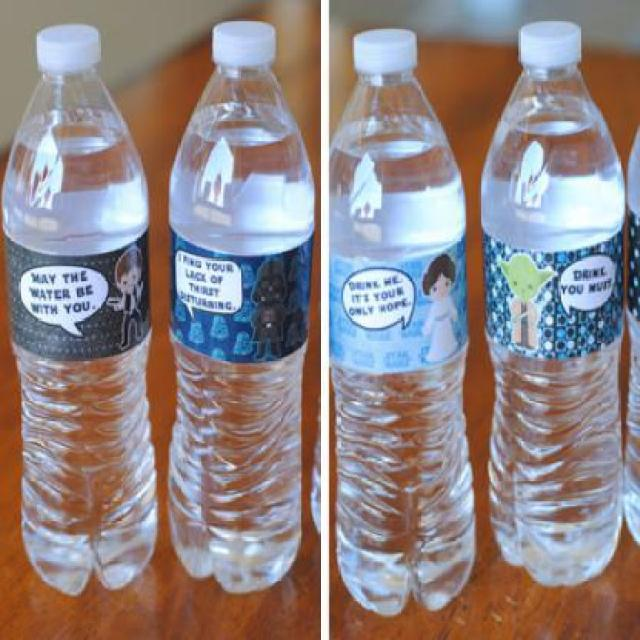bottle: (0, 8, 180, 603), (160, 8, 314, 597), (477, 9, 622, 592), (321, 0, 458, 612), (620, 53, 638, 564)
